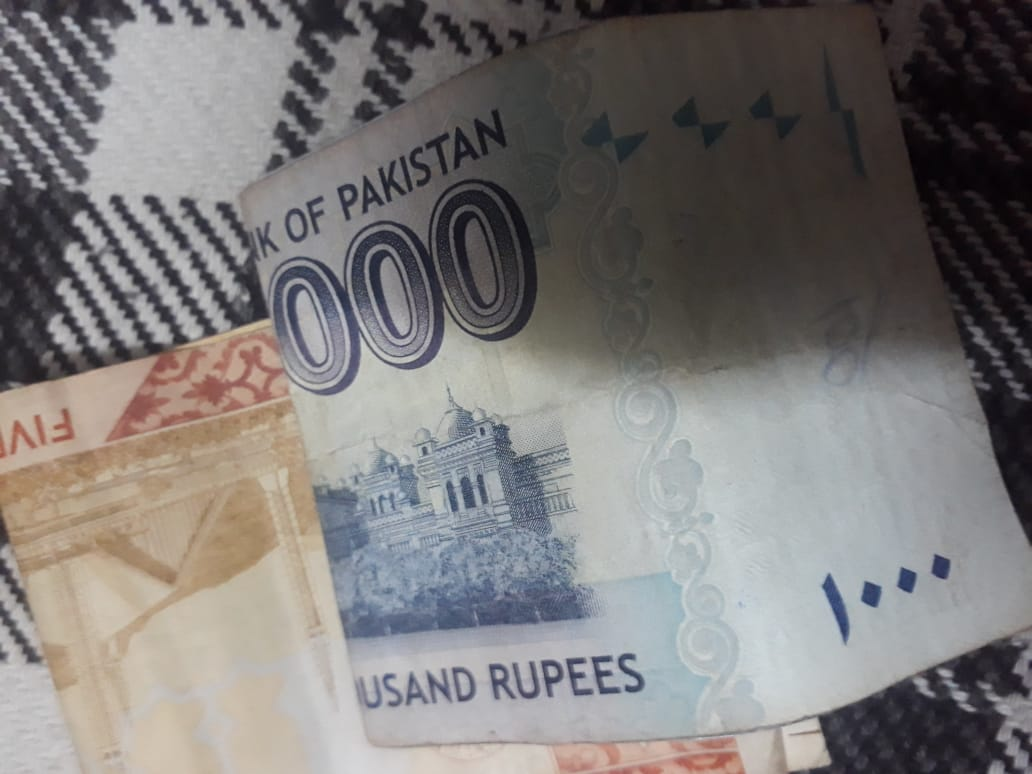1000 rupee: (226, 25, 1032, 751), (775, 483, 974, 670)
